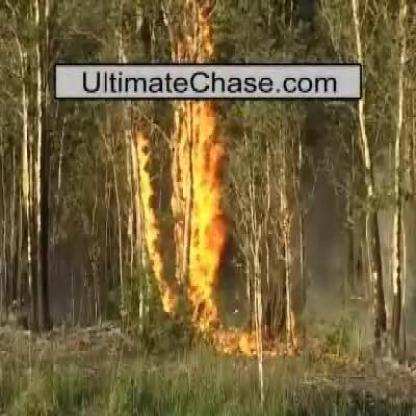foggia-v2-map80-epoch100 - v1 4323: (174, 103, 228, 345)
